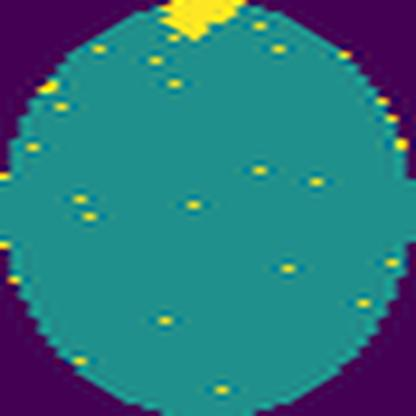Edge-Loc: (155, 0, 251, 46)
